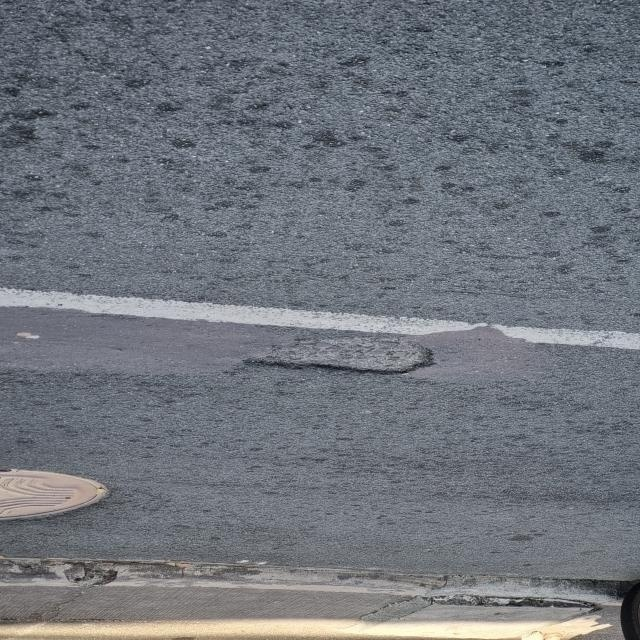pothole: (210, 297, 462, 405)
